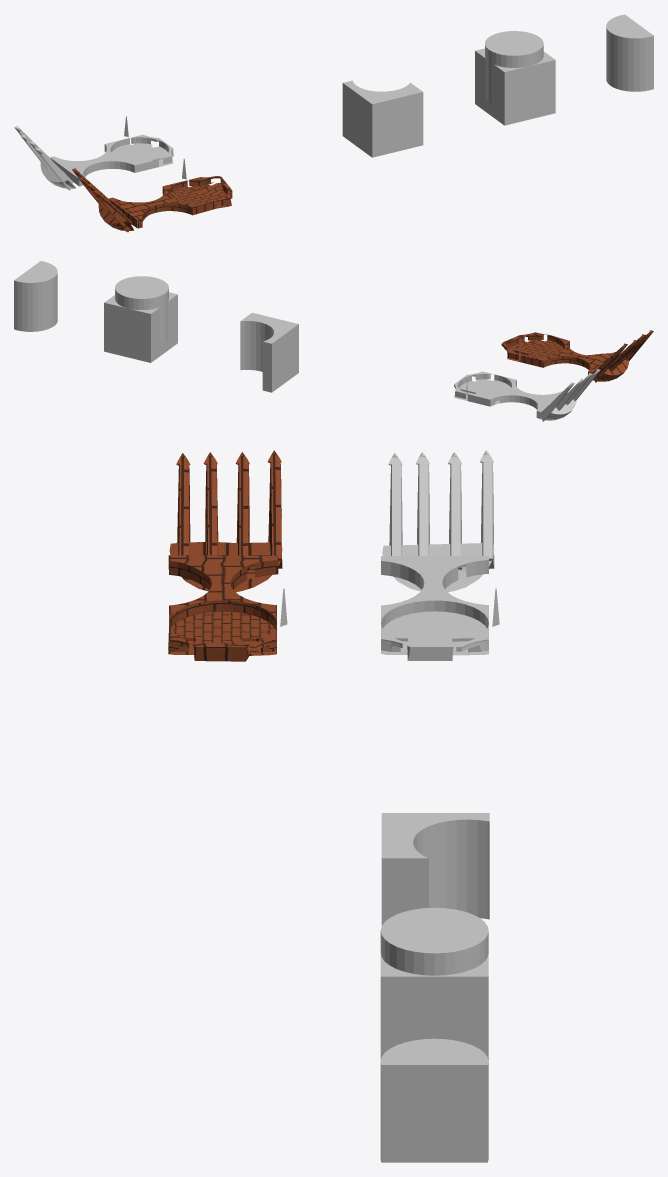
The model's file is ejercicio17.obj.
3 views of the same model, one above another, from view 1: azimuth 30°, elevation 25°; view 2: azimuth 150°, elevation 25°; view 3: azimuth 270°, elevation 25° (orthographic). The views are drawn at different scales.
Parts seen in each view (by area): view 1: Cube.002, Cube.001, Cube.025, Cube, Cube.003; view 2: Cube.002, Cube.001, Cube.025, Cube, Cube.003; view 3: Cube.025, Cube, Cube.002, Cube.003, Cube.001.
Part boxes in pixels (box(x1,y1,x2,y2)): Cube.002: box(475, 31, 555, 125); Cube.001: box(342, 80, 423, 157); Cube.025: box(72, 168, 232, 232); Cube: box(14, 126, 173, 190); Cube.003: box(606, 14, 653, 91); Cube.002: box(104, 276, 177, 362); Cube.001: box(240, 312, 298, 392); Cube.025: box(501, 330, 653, 382); Cube: box(454, 369, 600, 421); Cube.003: box(14, 261, 57, 331); Cube.025: box(168, 450, 282, 661); Cube: box(381, 450, 494, 660); Cube.002: box(380, 907, 488, 1060); Cube.003: box(380, 1038, 488, 1162); Cube.001: box(381, 813, 489, 925).
Bounding box in the file's own units: 24.11 × 3.38 × 6.14.
Materials: 5 (1 with a texture image).
